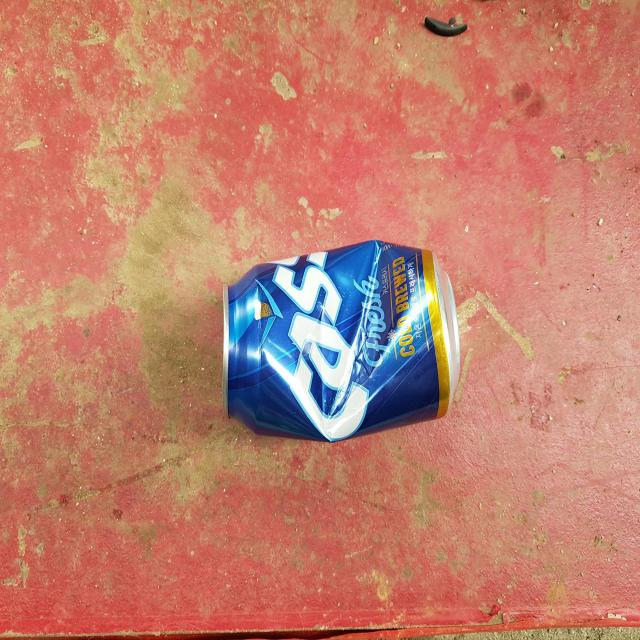can: (222, 240, 461, 442)
